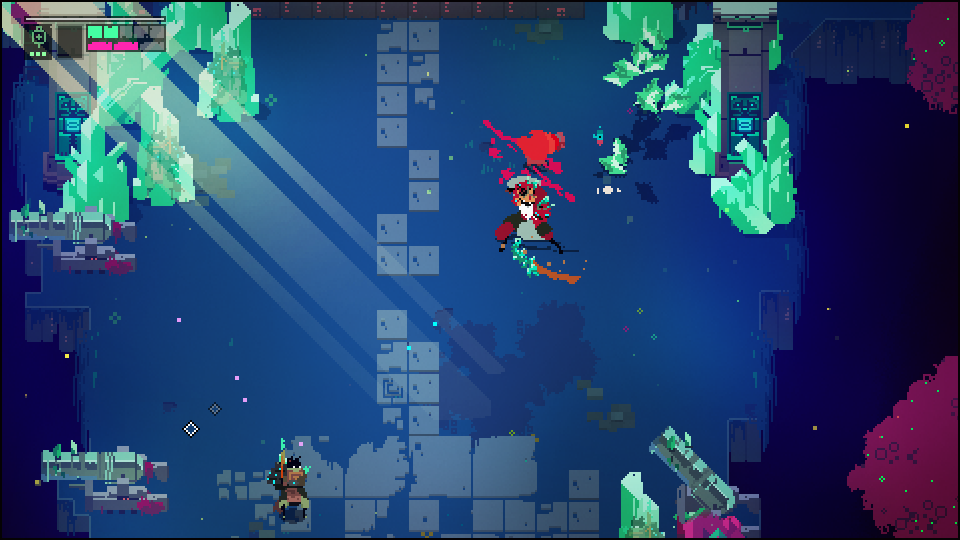hanged_man: (496, 175, 558, 278)
